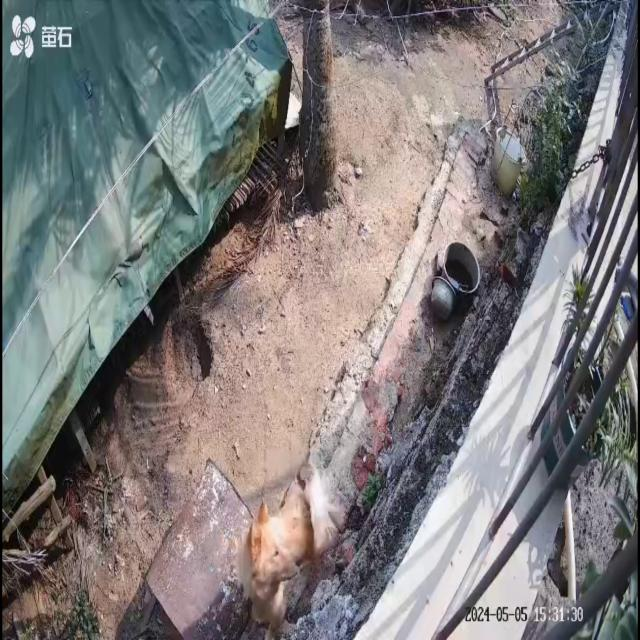dog: (235, 463, 346, 639)
